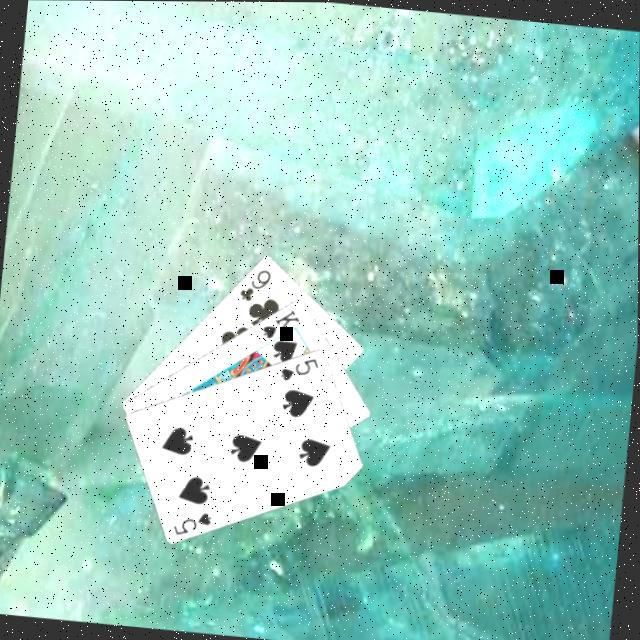5S: (170, 504, 217, 540), (278, 350, 324, 384)
9C: (237, 262, 276, 304)
KS: (260, 302, 304, 342)
